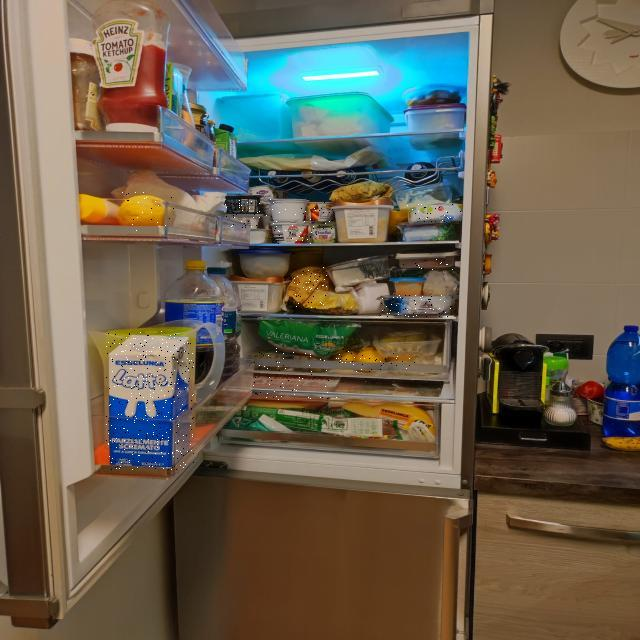cheese: (380, 296, 454, 318), (294, 267, 328, 309), (326, 186, 398, 201), (407, 204, 462, 223), (311, 223, 337, 244)
ham: (253, 374, 337, 400), (403, 259, 454, 270)
lemon: (122, 192, 174, 232), (356, 348, 386, 372), (388, 352, 418, 369), (335, 349, 356, 365)
milk: (106, 331, 194, 470)
olive: (254, 346, 287, 372), (291, 352, 330, 372)
yoghurt: (268, 221, 311, 244), (269, 198, 308, 220), (225, 196, 264, 216), (245, 186, 282, 203), (225, 215, 273, 228), (306, 201, 334, 222)
